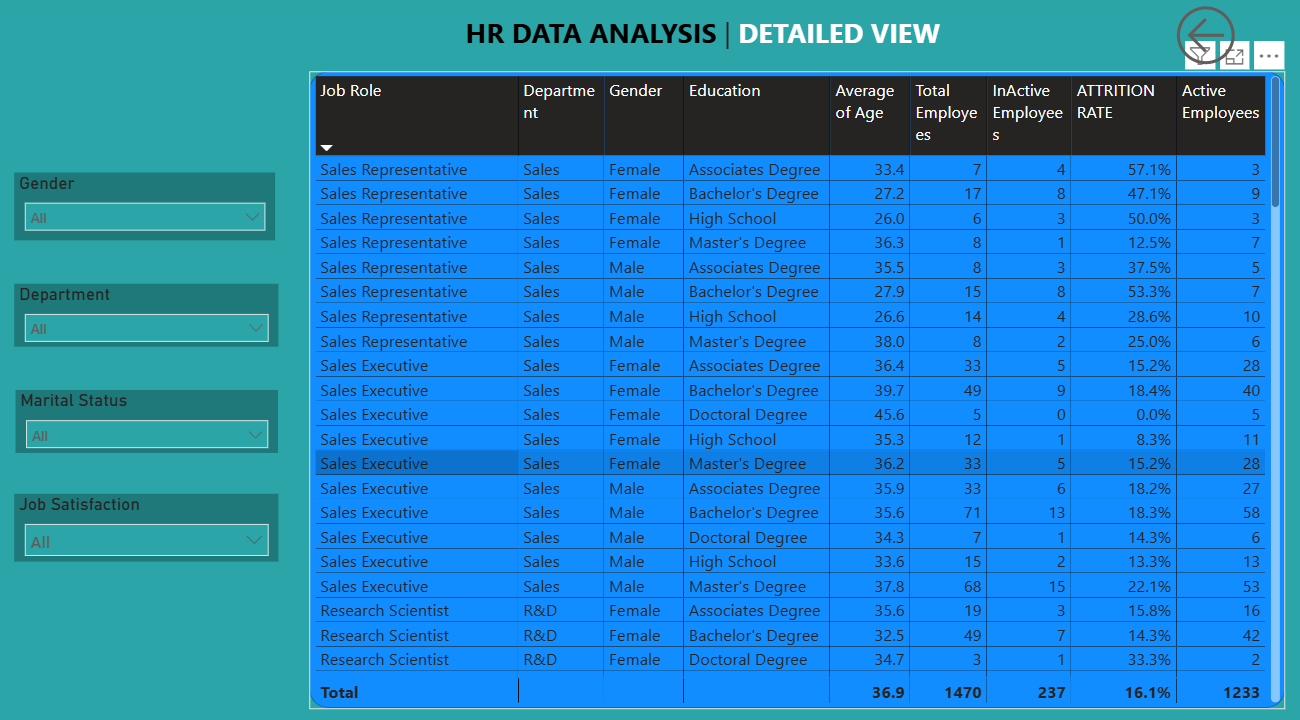

The dashboard page shown, as its layout file describes it:
{"tool":"powerbi","page":{"name":"DETAILED VIEW","canvas":[1280,720],"ordinal":2},"visuals":[{"type":"shape","box":[304.7,74.9,954.9,623],"z":0},{"type":"slicer","title":"Marital Status","fields":{"Values":["Hr Data.Marital Status"]},"box":[17,386.4,257,61.3],"z":1000},{"type":"slicer","title":"Gender","fields":{"Values":["Hr Data.Gender"]},"box":[15.3,173.6,255.3,66.4],"z":2000},{"type":"slicer","title":"Department","fields":{"Values":["Hr Data.Department"]},"box":[15.3,282.6,258.7,61.3],"z":3000},{"type":"slicer","title":"Job Satisfaction","fields":{"Values":["Hr Data.Job Satisfaction"]},"box":[15.3,488.5,258.7,66.4],"z":4000},{"type":"textbox","box":[420.4,13.6,537.9,61.3],"z":5000},{"type":"tableEx","fields":{"Values":["Hr Data.Job Role","Hr Data.Department","Hr Data.Gender","Hr Data.Education","Avg(Hr Data.Age)","Hr Data.Total Employees","Hr Data.InActive Employees","Hr Data.ATTRITION RATE","Hr Data.Active Employees"]},"box":[304.7,74.9,954.9,623],"z":6000},{"type":"actionButton","box":[1145.5,3.4,100.4,71.5],"z":7000},{"type":"image","box":[63,0,160,97],"z":8000},{"type":"image","box":[64.7,0,160,97],"z":8001}]}

Visuals, with their boxes in screenshot pixels (x1, y1, x2, y2), scaled from the page's 1280x720 canvas onto the 1300x720 screenshot:
shape: BBox(309, 75, 1279, 698)
"Marital Status" slicer: BBox(17, 386, 278, 448)
"Gender" slicer: BBox(16, 174, 275, 240)
"Department" slicer: BBox(16, 283, 278, 344)
"Job Satisfaction" slicer: BBox(16, 488, 278, 555)
textbox: BBox(427, 14, 973, 75)
tableEx - Hr Data.Job Role x Hr Data.Department: BBox(309, 75, 1279, 698)
actionButton: BBox(1163, 3, 1265, 75)
image: BBox(64, 0, 226, 97)
image: BBox(66, 0, 228, 97)
